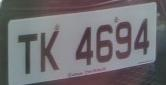4: (71, 23, 96, 70), (132, 15, 153, 59)
6: (93, 19, 116, 70)
9: (113, 17, 134, 61)
K: (37, 26, 63, 80)
T: (13, 28, 41, 82)
